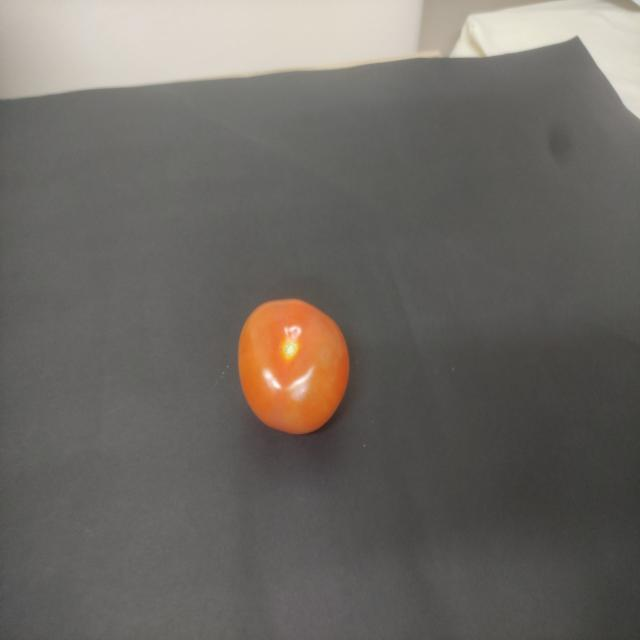sari: (217, 284, 360, 435)
